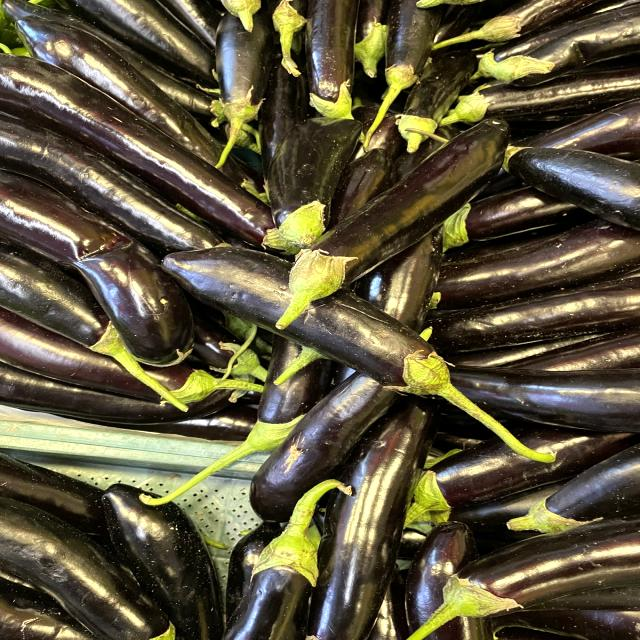eggplant: (157, 238, 568, 465), (254, 115, 526, 331), (200, 0, 279, 176)
